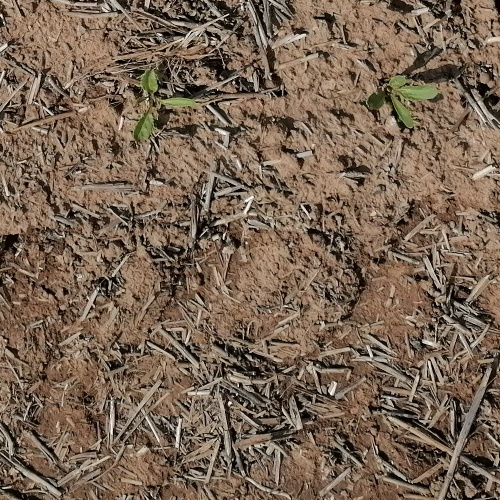beet: (132, 68, 194, 144), (367, 76, 440, 127)
